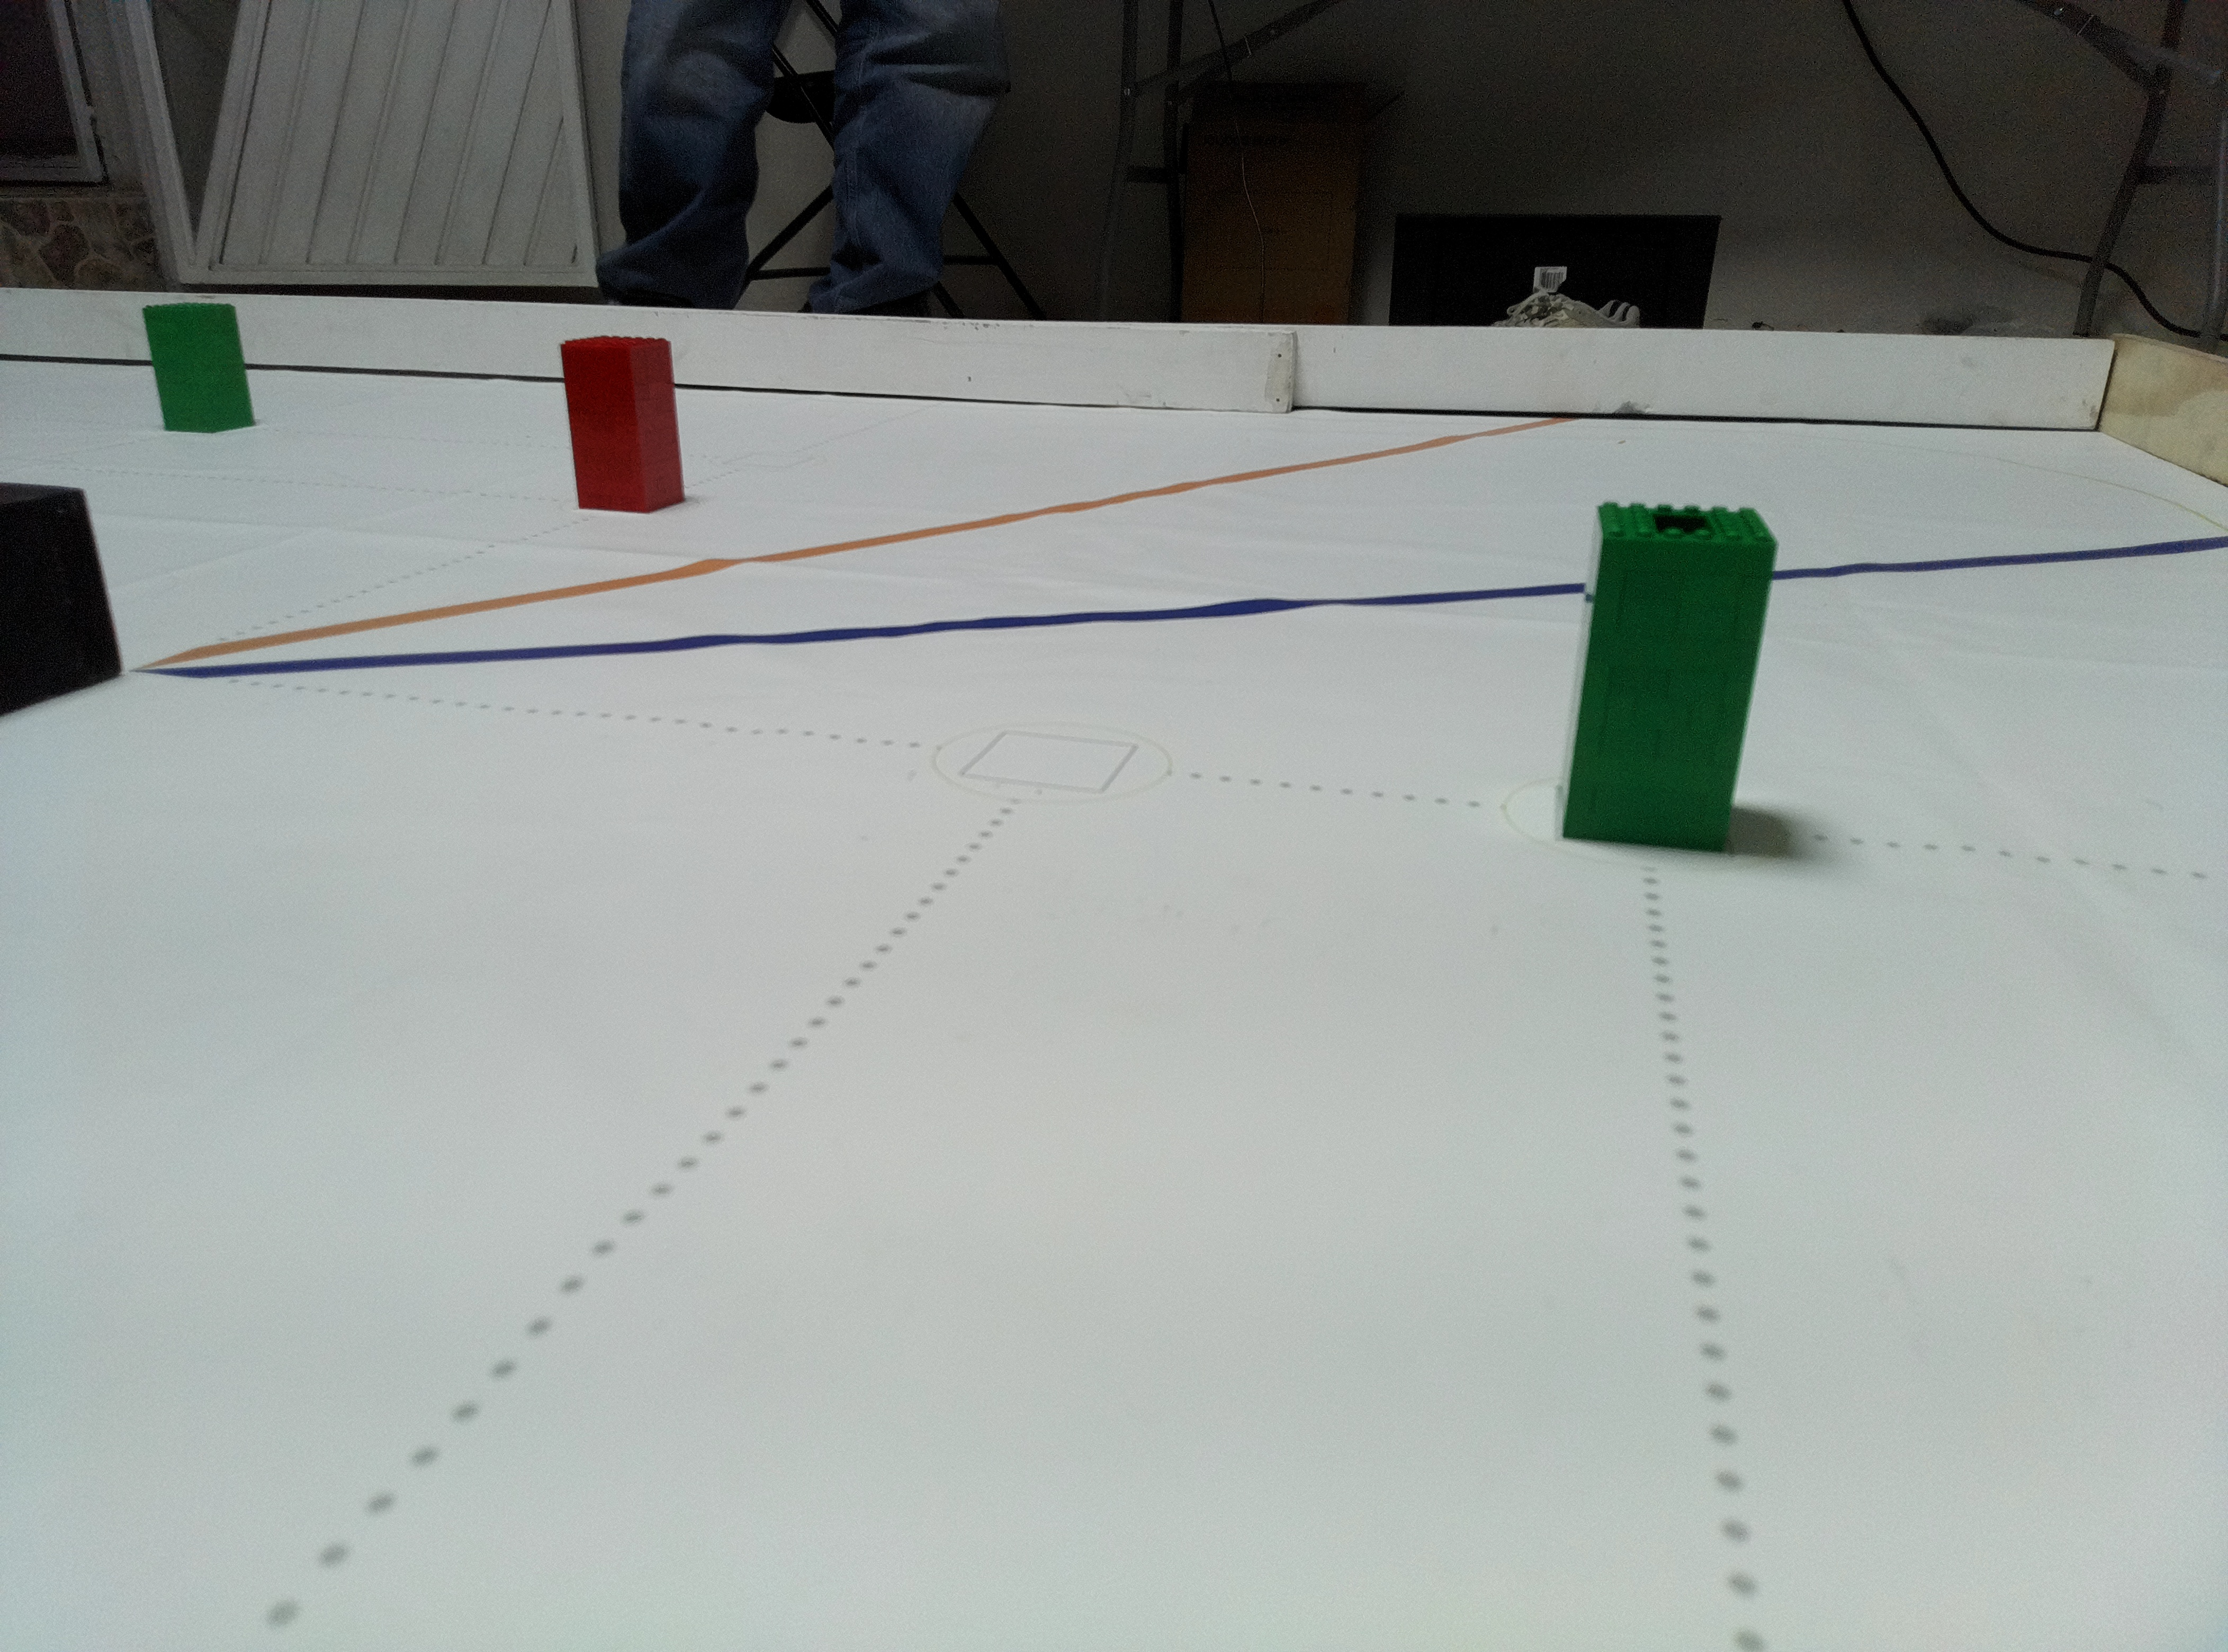greenbox: (1553, 503, 1784, 850), (142, 298, 259, 432)
redbox: (560, 333, 687, 512)
